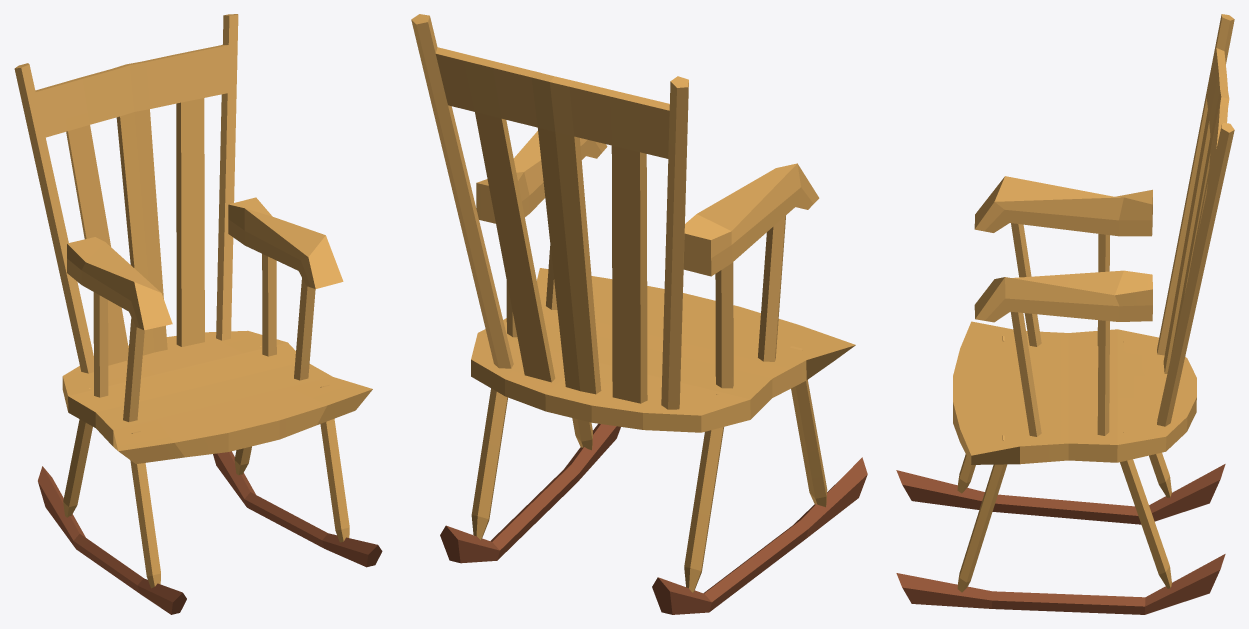
Rendered from Rocking chair.fbx.
3 renders of one model, left to right at view 1: azimuth 30°, elevation 25°; view 2: azimuth 150°, elevation 25°; view 3: azimuth 270°, elevation 25°, orthographic. The views are drawn at different scales.
Visible parts, largest first — view 1: Rocking chair; view 2: Rocking chair; view 3: Rocking chair.
Boxes of the visible parts, box(x1,y1,x2,y2) form: Rocking chair: box(14, 14, 382, 614); Rocking chair: box(411, 14, 867, 614); Rocking chair: box(896, 14, 1234, 614).
Bounding box in the file's own units: 84.22 × 146 × 89.7.
